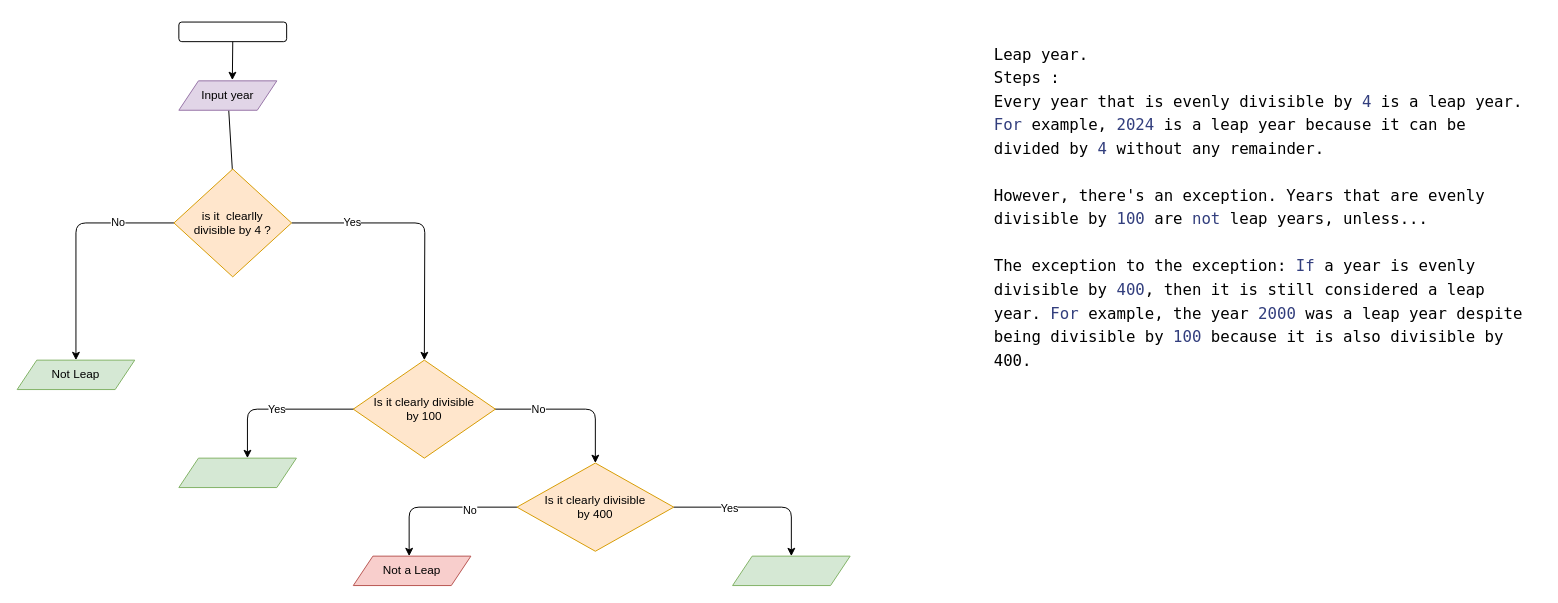
The diagram is 1558 pixels wide and 603 high, and some of its shapes have lost their labels. Each missing label, with the centre of its shape:
"Leap" goes at [791,570].
"Leap Year" goes at [237,472].
"Start" goes at [232,31].
